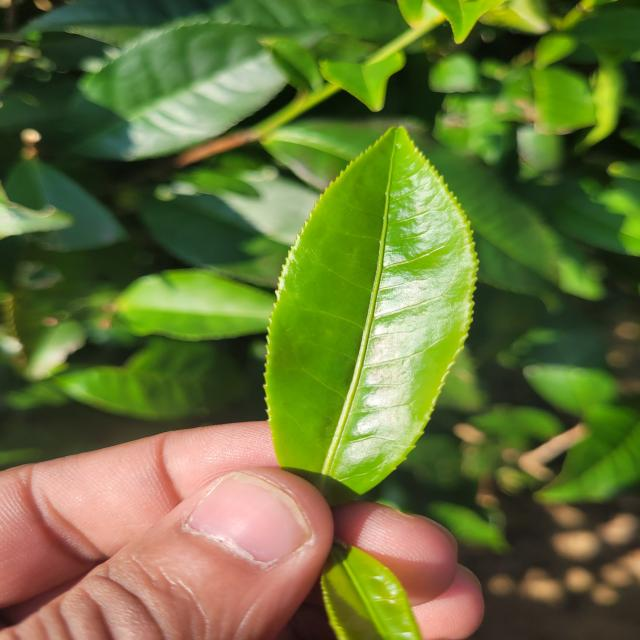Catagory A 1-2 days: (238, 114, 496, 502)
